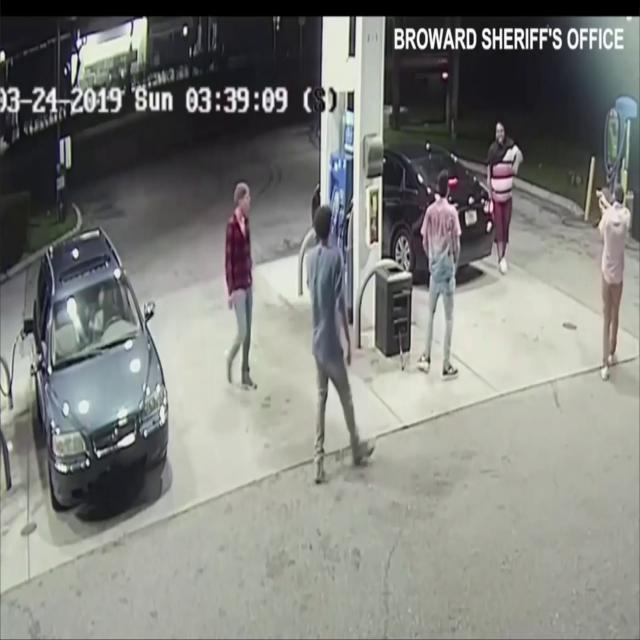gun: (596, 189, 606, 211)
